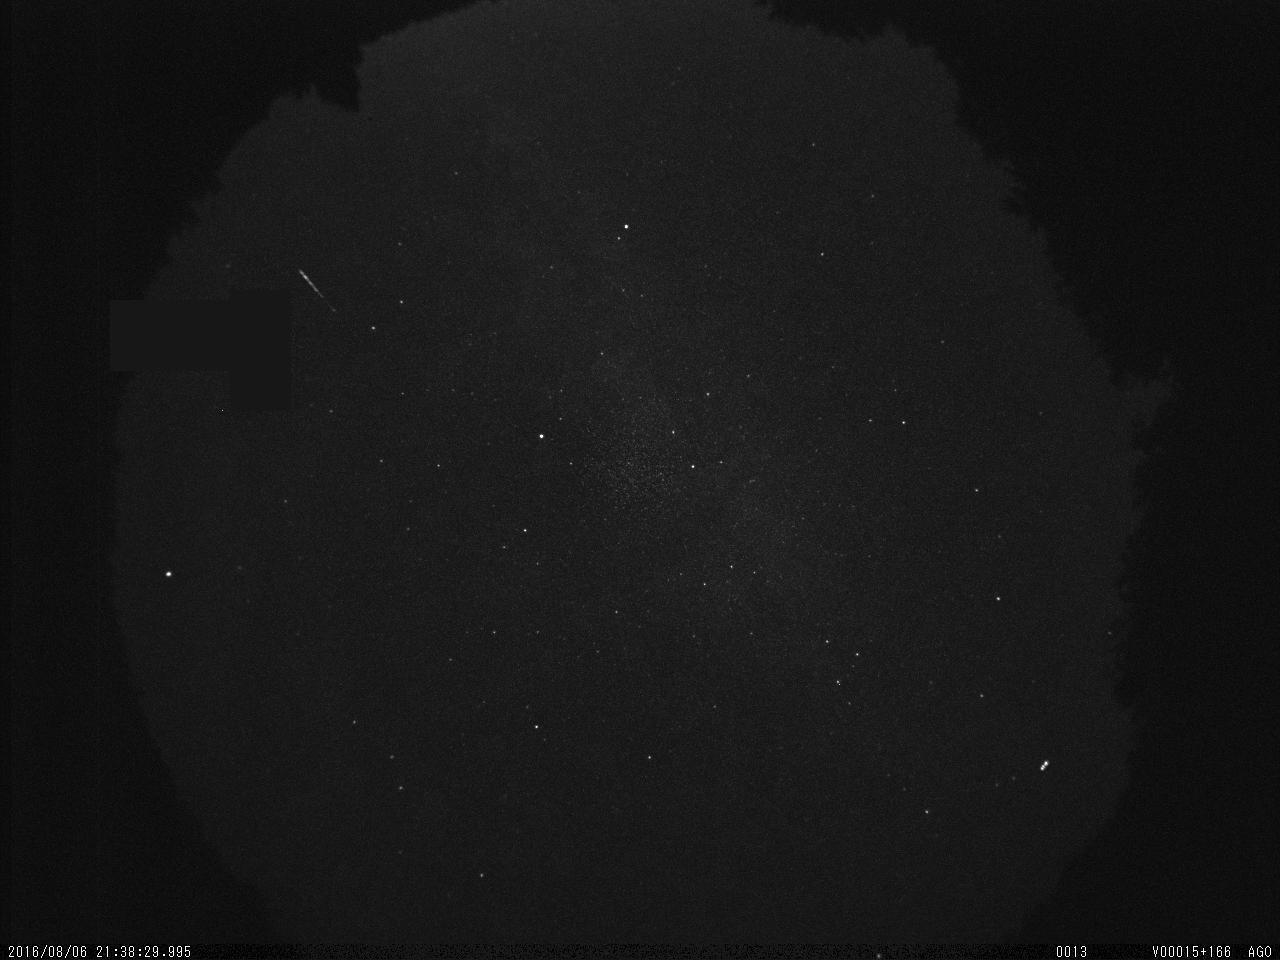meteor: (251, 239, 389, 347)
